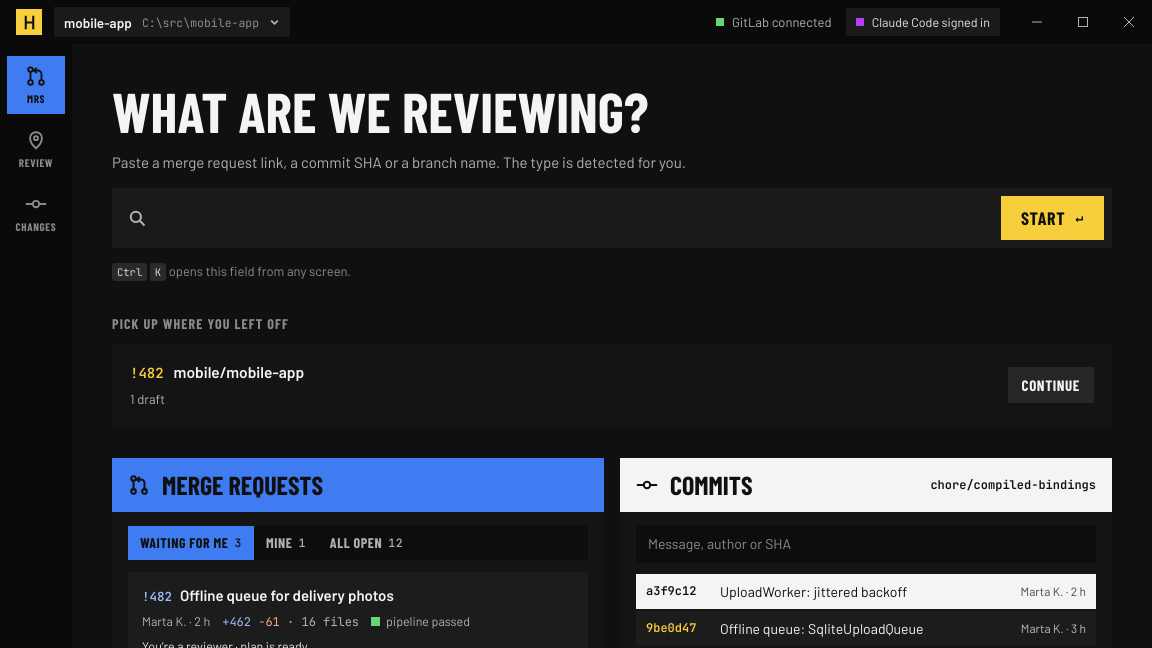
S-01 card of a drafts-only session (F-12.7) › F-12.7 a draft made outside a review puts its MR under Pick up, and Continue opens its S-05
Check: the text "!482" next to "mobile/mobile-app" is shown, box [130,364,164,382]
Check: the text "1 draft" is shown, box [130,391,165,407]
Click the button "Continue".
click(1051, 385)  # box [1008,367,1094,403]
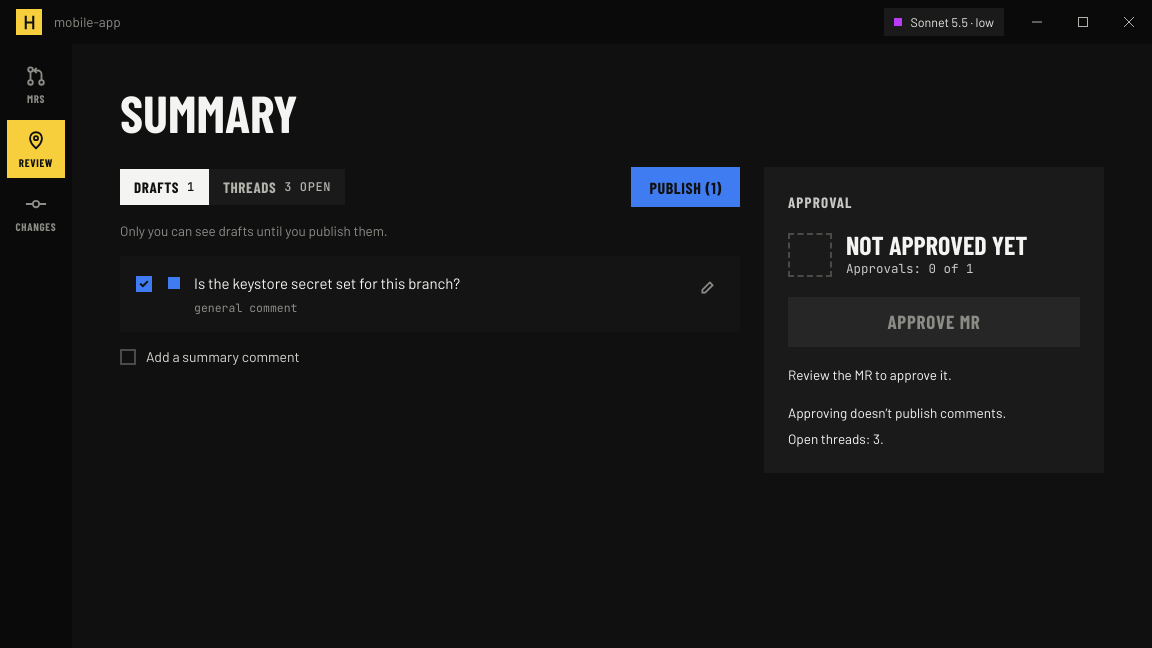
Check: the heading "Summary" is shown, box [120,88,298,137]
Check: the text "Is the keystore secret set for this branch?" is shown, box [194,274,460,292]
